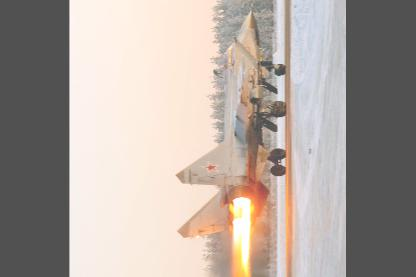Mig31: (176, 1, 286, 239)
